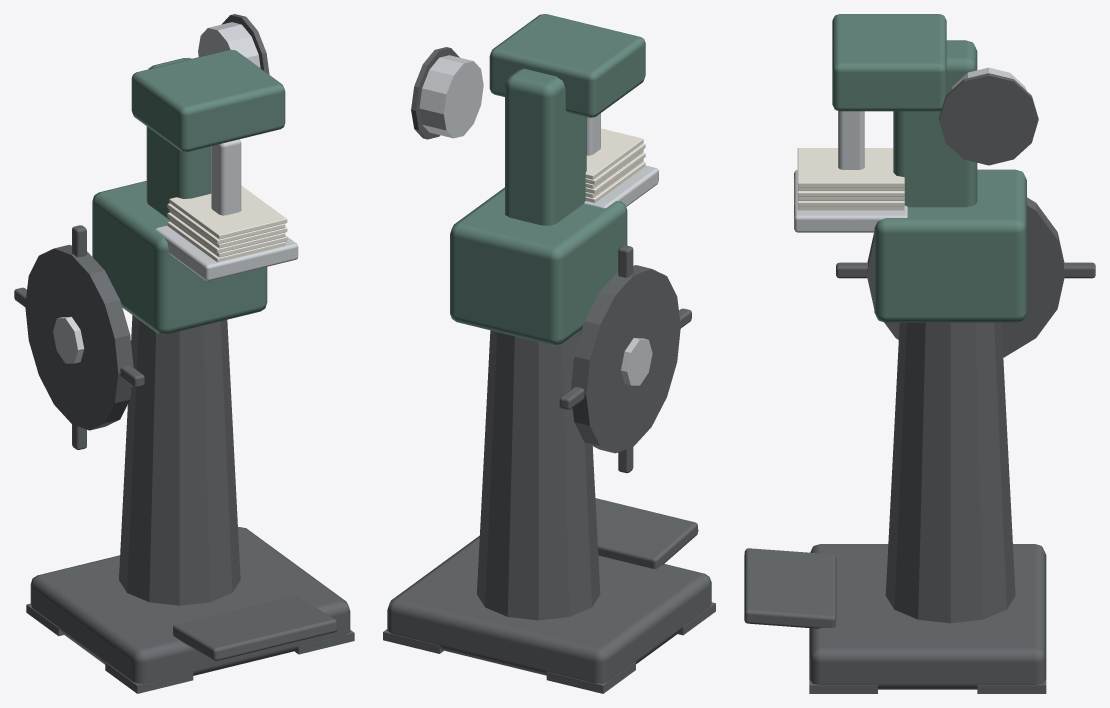
Rendered from printing-press-and-newspaper-office-wire-stitcher-fe51844e__37749.glb.
The picture shows the model from 3 angles, left to right: view 1: azimuth 30°, elevation 25°; view 2: azimuth 150°, elevation 25°; view 3: azimuth 270°, elevation 25°; orthographic projection. The views are drawn at different scales.
Visible parts, largest first — view 1: wire-stitcher, flywheel/iron, flywheel/steel; view 2: wire-stitcher, flywheel/iron, flywheel/steel; view 3: wire-stitcher, flywheel/iron.
Boxes of the visible parts, left/top/right/bottom form: wire-stitcher: left=26, top=14, right=354, bottom=693; flywheel/iron: left=14, top=225, right=144, bottom=449; flywheel/steel: left=53, top=316, right=84, bottom=363; wire-stitcher: left=383, top=14, right=715, bottom=693; flywheel/iron: left=559, top=245, right=691, bottom=473; flywheel/steel: left=621, top=338, right=652, bottom=385; wire-stitcher: left=744, top=14, right=1046, bottom=693; flywheel/iron: left=836, top=197, right=1095, bottom=357.
Bounding box in the file's own units: 0.6999 × 1.75 × 0.9204.
